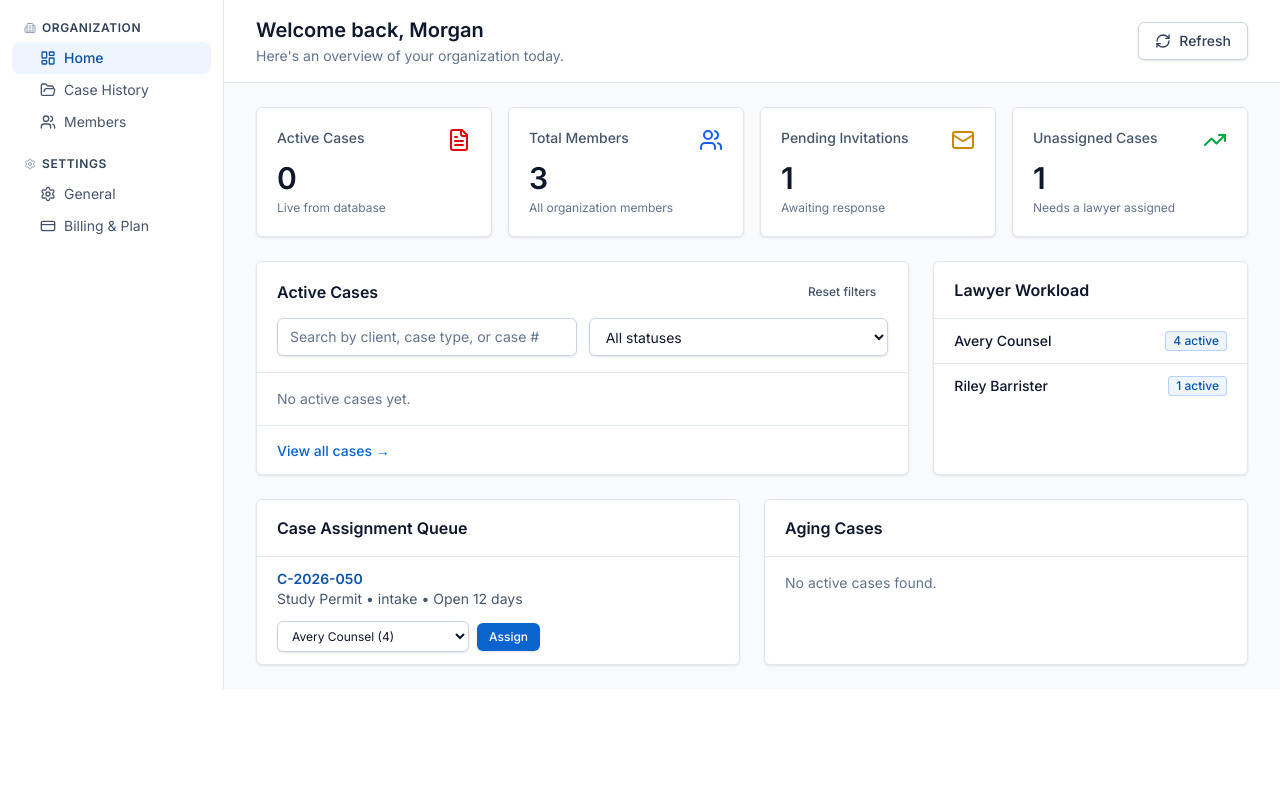
Test: AdminDashboard home › CT-ADMIN-03: assigns an unassigned case to the selected lawyer
Expected: the heading "Welcome back, Morgan" is shown, 256,18 -> 484,42
Step 1. Select "Riley Barrister (1)" in the dropdown named "Lawyer for C-2026-050" → x=373, y=636, box 277,621 -> 469,652
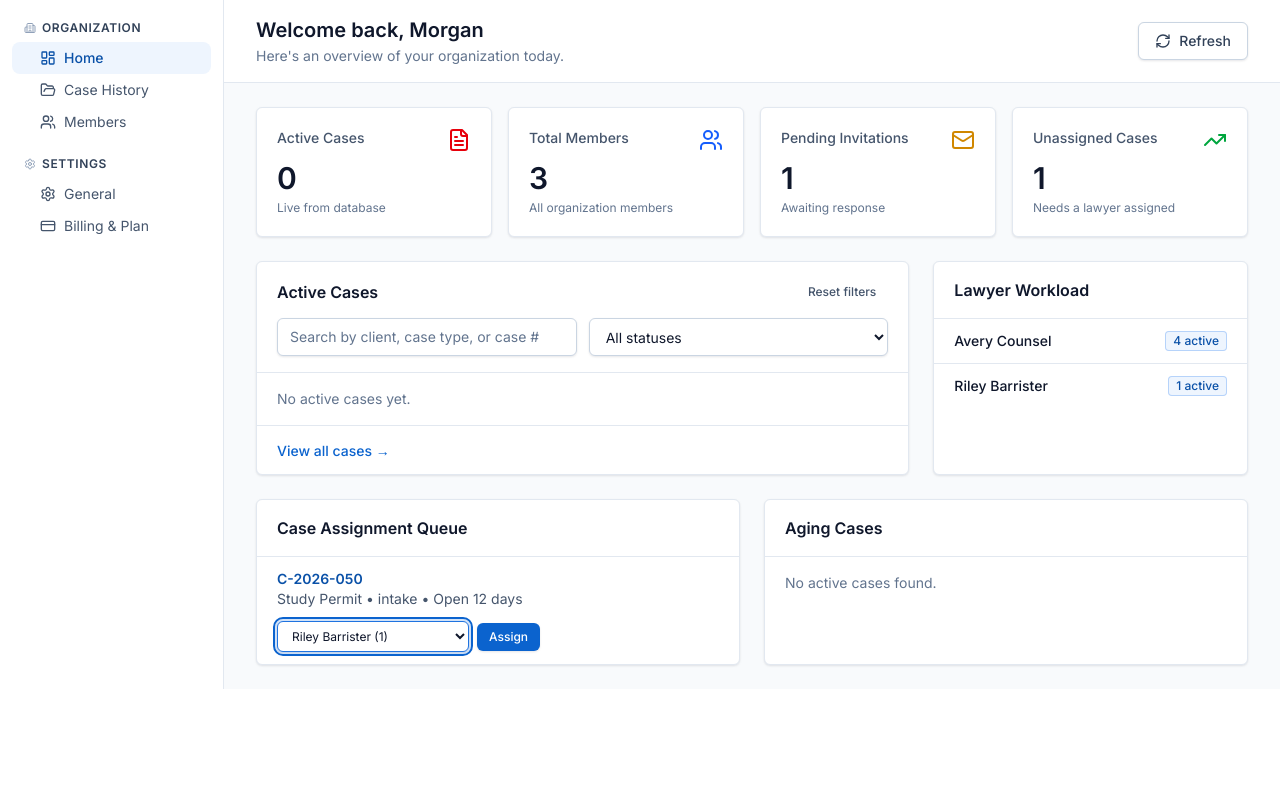
Step 2. Click the button "Assign" → x=509, y=636, box 477,622 -> 540,650
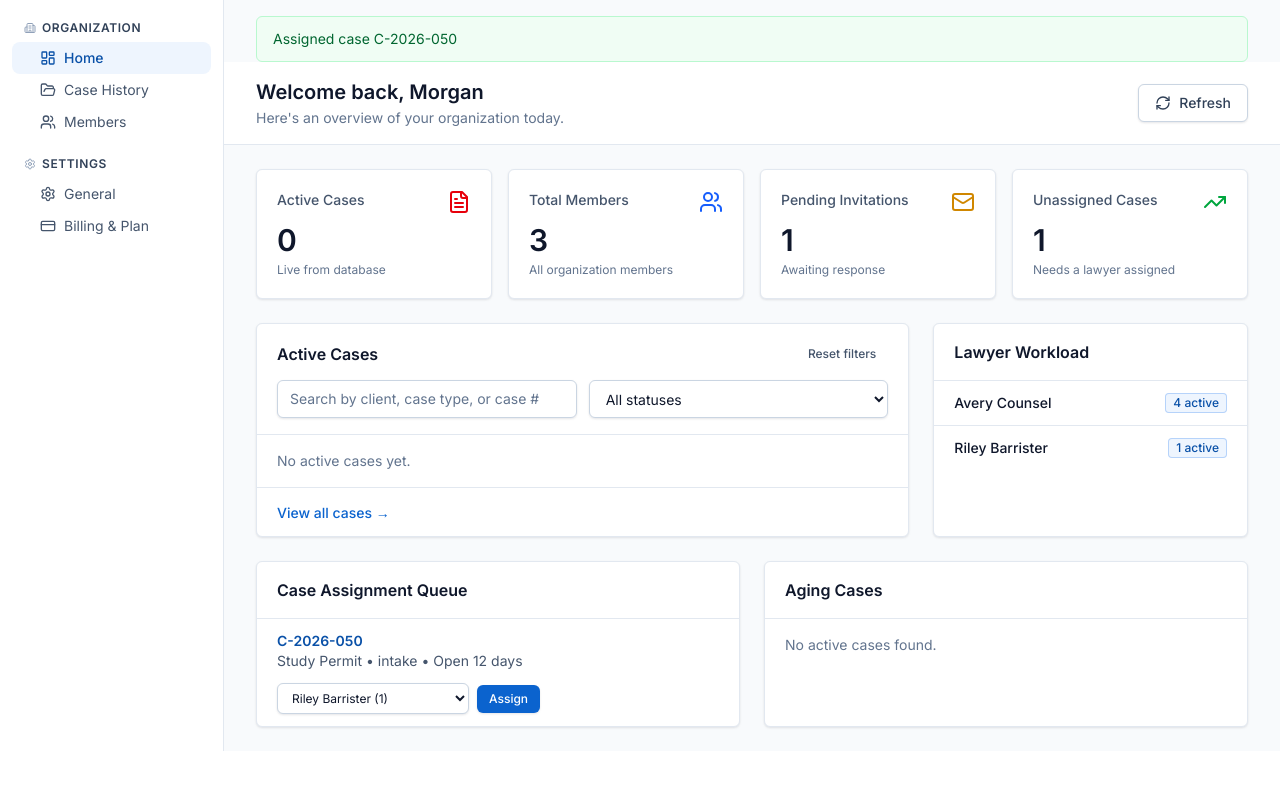
Expected: the text "Assigned case C-2026-050" is shown, 256,16 -> 1248,62
